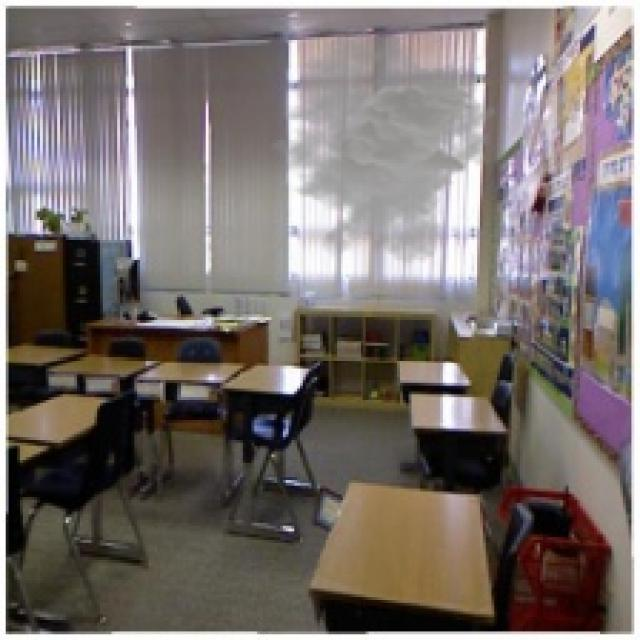smoke: (260, 31, 500, 266)
